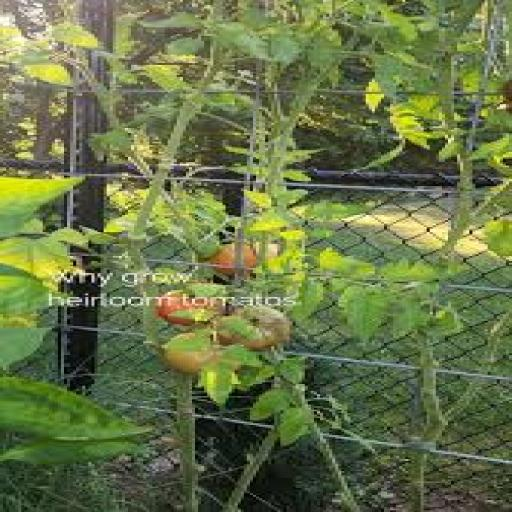tomato: (217, 306, 292, 349), (162, 333, 219, 375), (156, 292, 222, 325), (211, 245, 259, 276)
